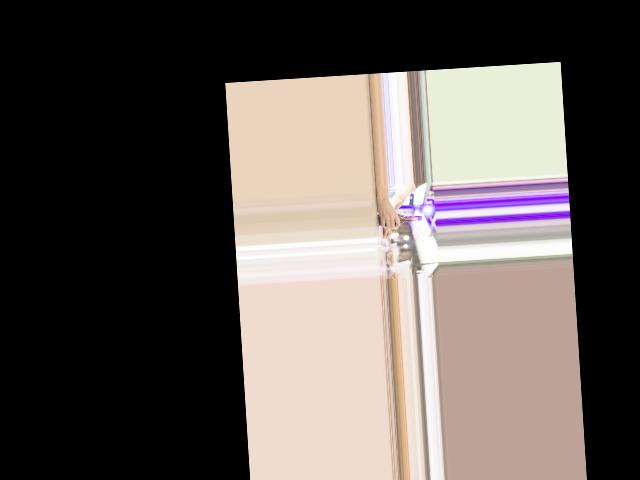beer: (378, 212, 422, 226)
